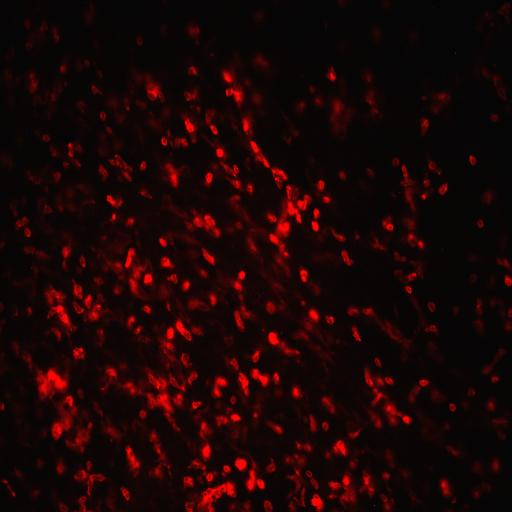microglia: (150, 392, 173, 412), (125, 445, 139, 469), (212, 376, 228, 396), (253, 150, 269, 168), (176, 320, 191, 338), (272, 168, 286, 186), (439, 478, 452, 497), (372, 388, 385, 405), (198, 420, 210, 438), (204, 214, 216, 231), (127, 278, 139, 295), (125, 248, 135, 268), (246, 236, 257, 253), (202, 250, 214, 265), (311, 493, 323, 508), (246, 472, 256, 490), (234, 311, 244, 329), (44, 287, 54, 305), (335, 439, 346, 455), (238, 373, 249, 389), (214, 415, 230, 426), (52, 423, 62, 440), (106, 195, 120, 207), (482, 190, 494, 204), (54, 288, 66, 302), (342, 250, 352, 266), (98, 165, 108, 181), (234, 458, 247, 470), (257, 373, 269, 386), (73, 347, 85, 360), (192, 460, 206, 471), (29, 77, 39, 92), (278, 222, 290, 234), (420, 118, 429, 134), (73, 282, 82, 298), (166, 162, 178, 174), (75, 469, 88, 480), (226, 481, 236, 495), (490, 458, 500, 472), (326, 67, 336, 81), (156, 443, 164, 460), (268, 332, 279, 344), (147, 88, 158, 100), (184, 90, 196, 101), (120, 487, 130, 500), (352, 325, 360, 341), (322, 395, 331, 409), (106, 367, 117, 378), (266, 212, 277, 223), (232, 90, 242, 102), (297, 199, 307, 211), (64, 394, 74, 406), (190, 300, 202, 310), (194, 216, 204, 228), (73, 302, 83, 314), (386, 404, 396, 416), (360, 475, 370, 487), (328, 480, 340, 490), (84, 294, 92, 308), (309, 415, 316, 431), (287, 204, 297, 215), (60, 313, 70, 324), (206, 472, 217, 482), (185, 120, 194, 132), (308, 308, 317, 320), (438, 182, 447, 194), (263, 499, 272, 511), (88, 311, 100, 320), (170, 173, 178, 186), (300, 269, 308, 282), (161, 257, 171, 267), (223, 72, 233, 82), (184, 476, 194, 486), (310, 479, 319, 490), (205, 172, 213, 184), (202, 445, 210, 457), (166, 327, 174, 339), (342, 474, 350, 486), (365, 374, 373, 386), (181, 353, 189, 365), (424, 325, 436, 333), (126, 217, 134, 229), (144, 303, 152, 315), (402, 415, 412, 424), (250, 142, 259, 152), (92, 85, 101, 95), (164, 302, 173, 312), (273, 424, 282, 434), (366, 486, 375, 496), (340, 493, 349, 503), (184, 502, 193, 512), (230, 414, 241, 422), (266, 302, 274, 313), (213, 227, 221, 238), (62, 246, 69, 258), (79, 255, 86, 267), (242, 120, 249, 132), (401, 164, 408, 176), (68, 142, 74, 156), (272, 372, 279, 384), (168, 274, 177, 283), (270, 234, 278, 244), (144, 274, 152, 284), (292, 387, 300, 397), (256, 478, 264, 488), (427, 302, 435, 312), (252, 352, 260, 362), (188, 66, 196, 76), (469, 273, 477, 283), (127, 316, 135, 326), (267, 460, 273, 473), (313, 208, 320, 219), (469, 155, 476, 166), (312, 222, 320, 231), (216, 148, 224, 157), (182, 281, 190, 290), (408, 273, 417, 281), (466, 387, 474, 396), (42, 134, 50, 143), (284, 348, 296, 354), (295, 212, 302, 222), (24, 227, 31, 237), (418, 379, 428, 386), (374, 357, 381, 367), (366, 168, 373, 178), (77, 388, 84, 398), (334, 103, 341, 113), (150, 432, 157, 442), (318, 180, 324, 191), (86, 460, 92, 471), (385, 223, 393, 231), (448, 403, 456, 411), (326, 316, 334, 324), (226, 88, 234, 96), (56, 305, 64, 313), (490, 114, 498, 122), (391, 158, 399, 166), (376, 378, 384, 386), (238, 271, 245, 280), (210, 125, 217, 134), (192, 401, 201, 408), (136, 37, 143, 46), (304, 444, 313, 451), (210, 294, 216, 304), (507, 275, 512, 287), (232, 164, 238, 174), (322, 422, 328, 432), (374, 418, 380, 428), (299, 496, 305, 506), (417, 240, 424, 248), (159, 238, 166, 246), (223, 464, 230, 472), (139, 410, 146, 418), (323, 196, 331, 203), (382, 473, 390, 480), (140, 161, 146, 170), (477, 219, 483, 228), (423, 178, 429, 187), (404, 286, 411, 293), (161, 138, 167, 146), (490, 376, 498, 382), (100, 112, 106, 120), (200, 269, 206, 277), (252, 411, 258, 419), (93, 304, 101, 310), (154, 468, 160, 476), (385, 378, 393, 384), (342, 486, 350, 492), (295, 469, 301, 477), (420, 193, 426, 200), (306, 470, 312, 477), (296, 442, 302, 449), (247, 184, 252, 192), (308, 324, 313, 332), (252, 459, 256, 469), (349, 432, 358, 436), (136, 327, 141, 334), (330, 406, 335, 413), (187, 222, 192, 229), (389, 417, 396, 422), (111, 214, 116, 220), (296, 350, 302, 355), (94, 279, 100, 284), (350, 496, 355, 502), (294, 454, 300, 459), (438, 95, 445, 99), (272, 466, 276, 473), (301, 488, 305, 495), (297, 482, 301, 489), (328, 494, 335, 498), (304, 335, 309, 340), (281, 342, 285, 348), (385, 504, 389, 510), (384, 497, 388, 503), (290, 503, 294, 509), (140, 191, 145, 195), (290, 476, 295, 480), (300, 333, 304, 337), (99, 330, 103, 334), (300, 459, 304, 463), (286, 458, 289, 462)
